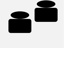human: (33, 0, 60, 23), (7, 10, 32, 34)
